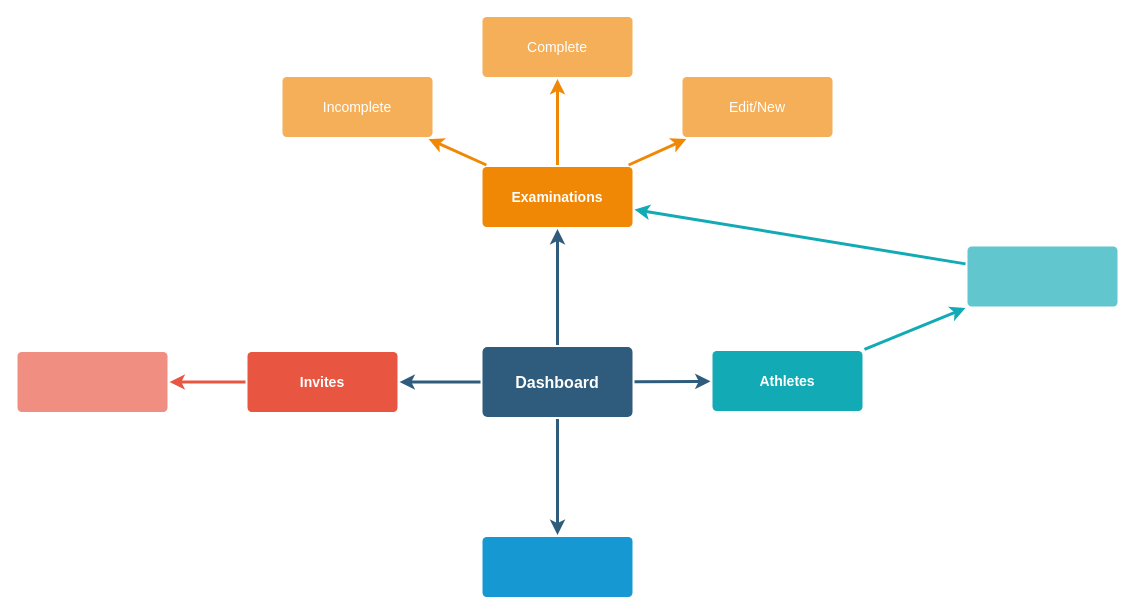
Some shapes in this 1134 by 614 pixel diagram are drawn without their labels. The shapes that lost their labels are listed below. From the top down, each one's centre as x and y in pixels, then its label:
point 1042,276: Athlete Profile
point 92,382: Accept
point 557,566: Organization
